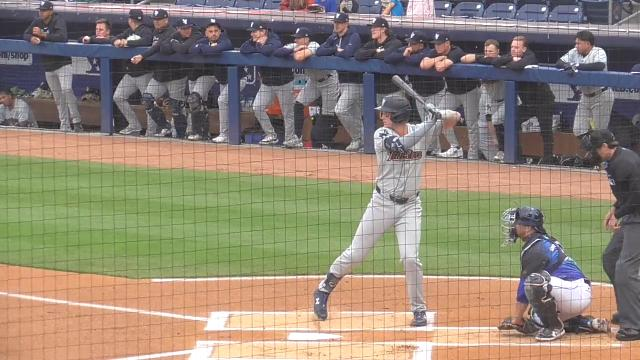baseball bat: (394, 74, 426, 106)
